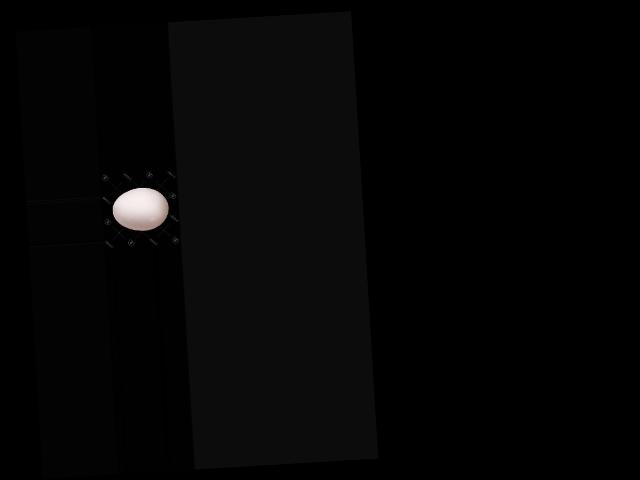egg: (111, 186, 169, 231)
